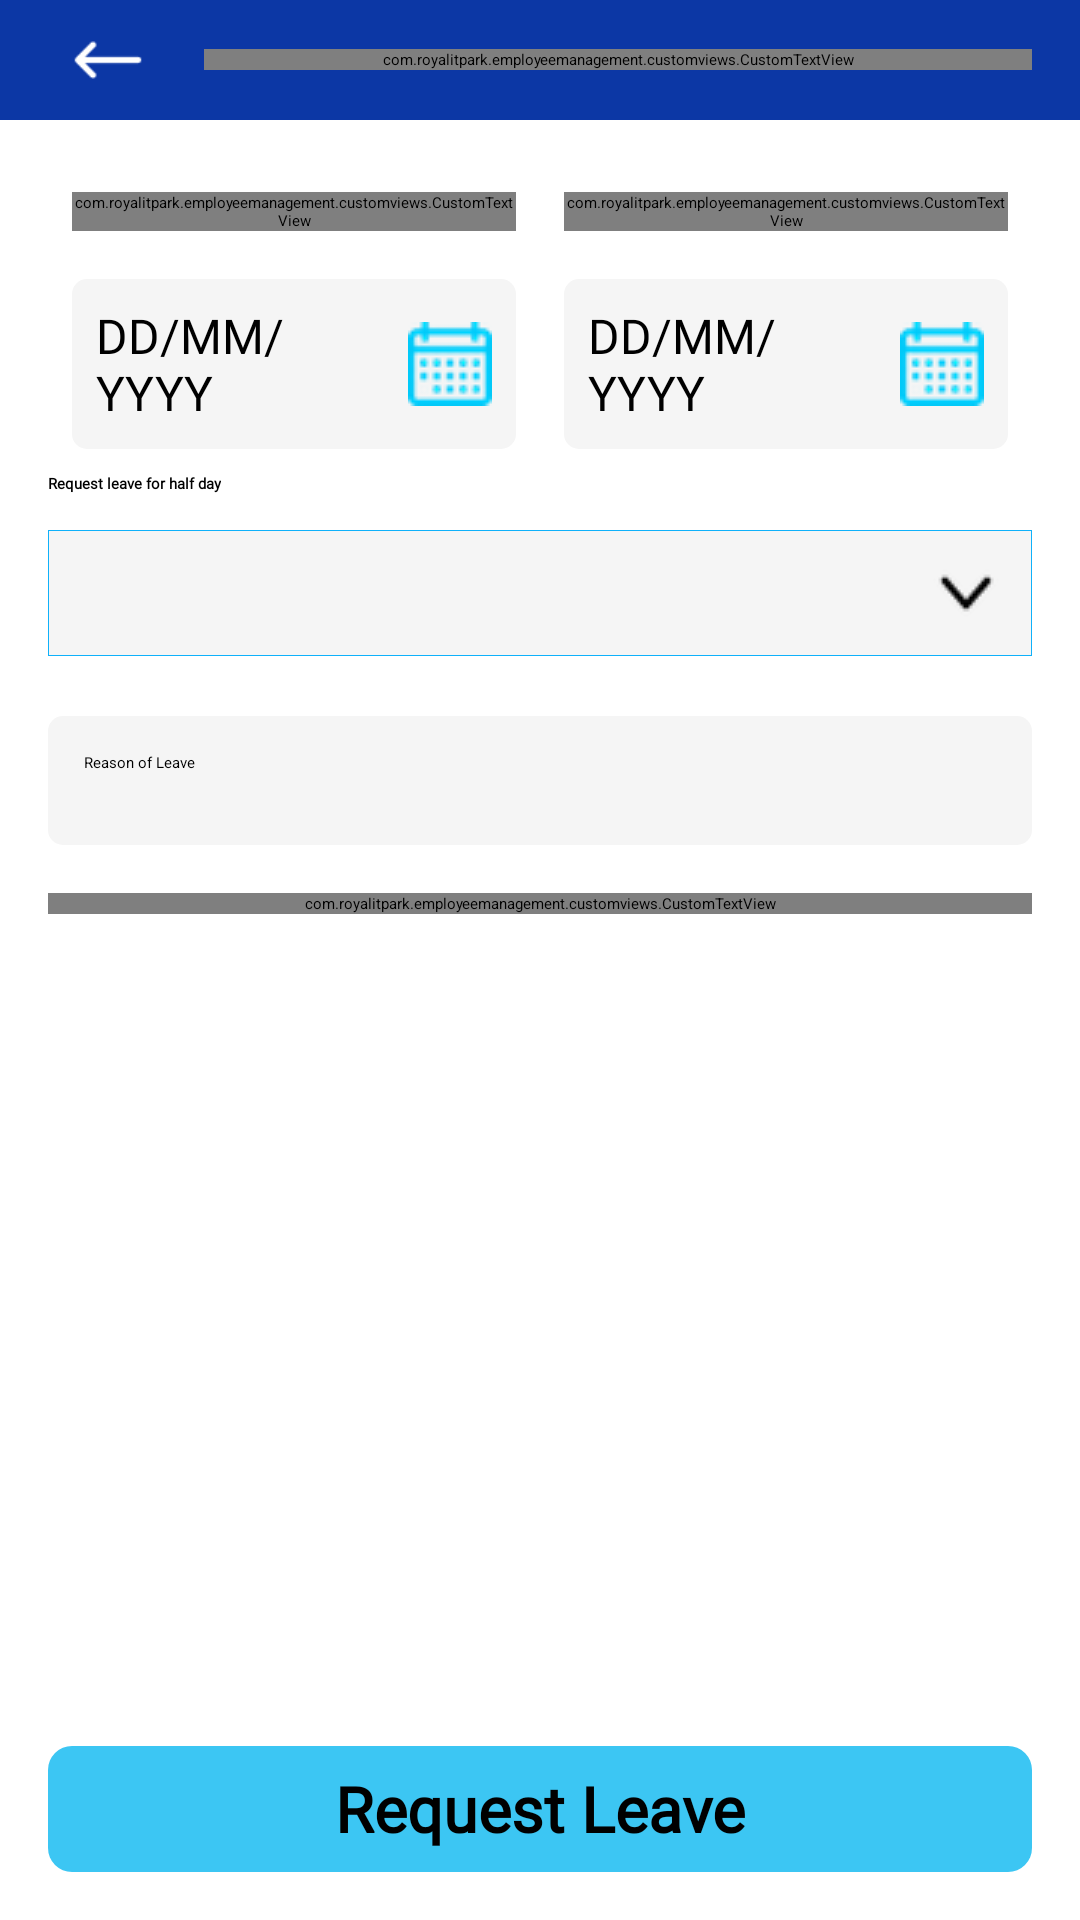

Icons on this 1080×1920 Android screen, each with the point to tap as [x,y]:
back left: [108,60]
